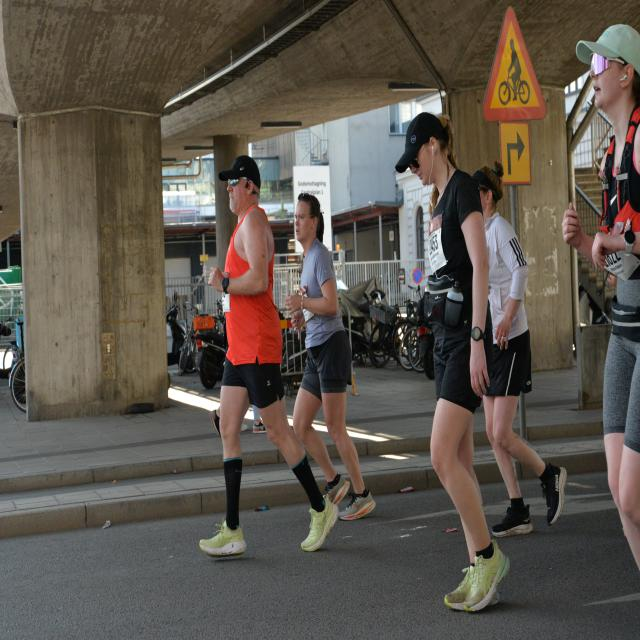runner-detect: (392, 99, 519, 620), (189, 152, 334, 574), (467, 147, 570, 534), (291, 182, 381, 526)
